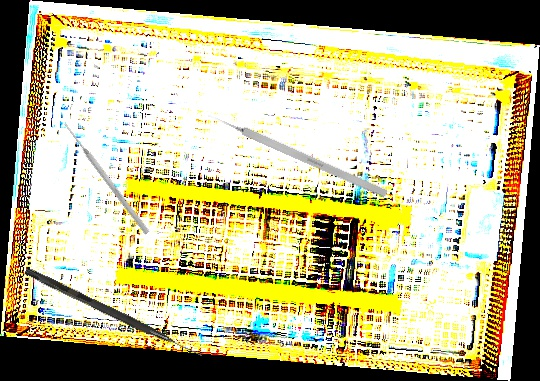Hook Surgical: (23, 267, 205, 359), (206, 110, 389, 199)
Pusher: (61, 120, 151, 236)
